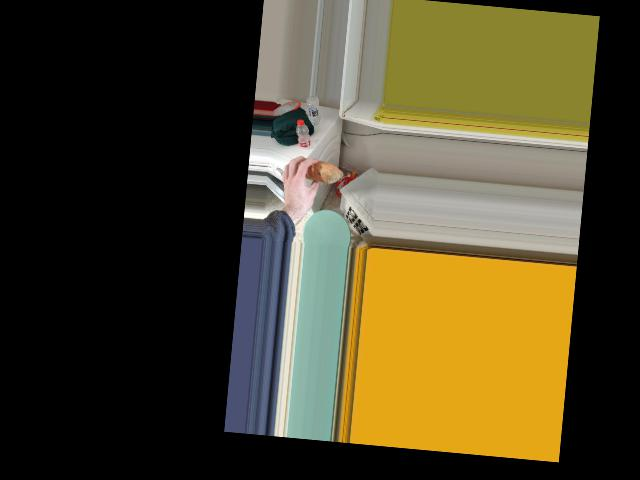sweet_potato: (298, 160, 332, 188)
